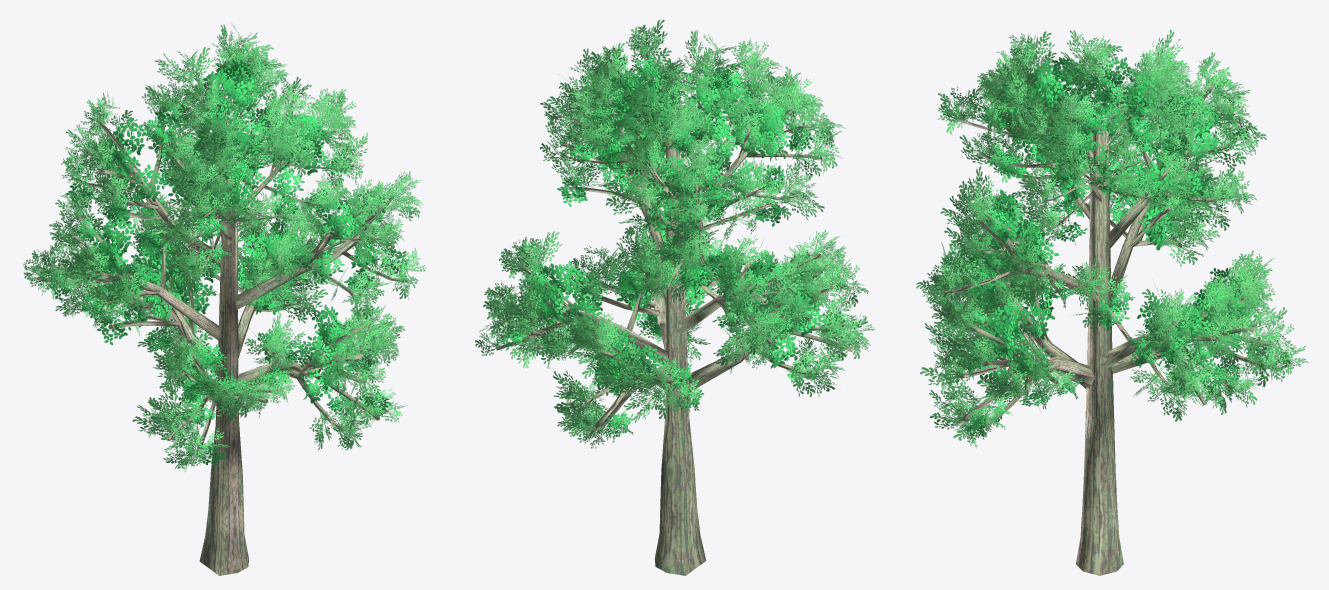
File: jabami_anime_tree_v2.glb
3 renders of one model, left to right at view 1: azimuth 30°, elevation 25°; view 2: azimuth 150°, elevation 25°; view 3: azimuth 270°, elevation 25°, orthographic. The views are drawn at different scales.
Visible parts, largest first — view 1: ..\..\users\hp-touch\documents\treeitsave\texture\tron_tree_ (×5); view 2: ..\..\users\hp-touch\documents\treeitsave\texture\tron_tree_ (×5); view 3: ..\..\users\hp-touch\documents\treeitsave\texture\tron_tree_ (×5).
Boxes of the visible parts, x1,y1,x2,y2 form: ..\..\users\hp-touch\documents\treeitsave\texture\tron_tree_ (×5): (23,24,425,575); ..\..\users\hp-touch\documents\treeitsave\texture\tron_tree_ (×5): (475,19,875,575); ..\..\users\hp-touch\documents\treeitsave\texture\tron_tree_ (×5): (916,30,1308,575).
Size of the model in its own units: 9.27 by 14.19 by 9.43.
5 materials, 5 textured.
